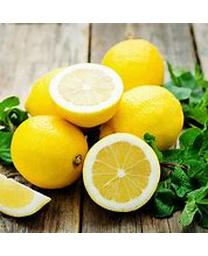lemon: (83, 134, 159, 211), (12, 116, 88, 188), (50, 64, 123, 127), (115, 86, 183, 150)
